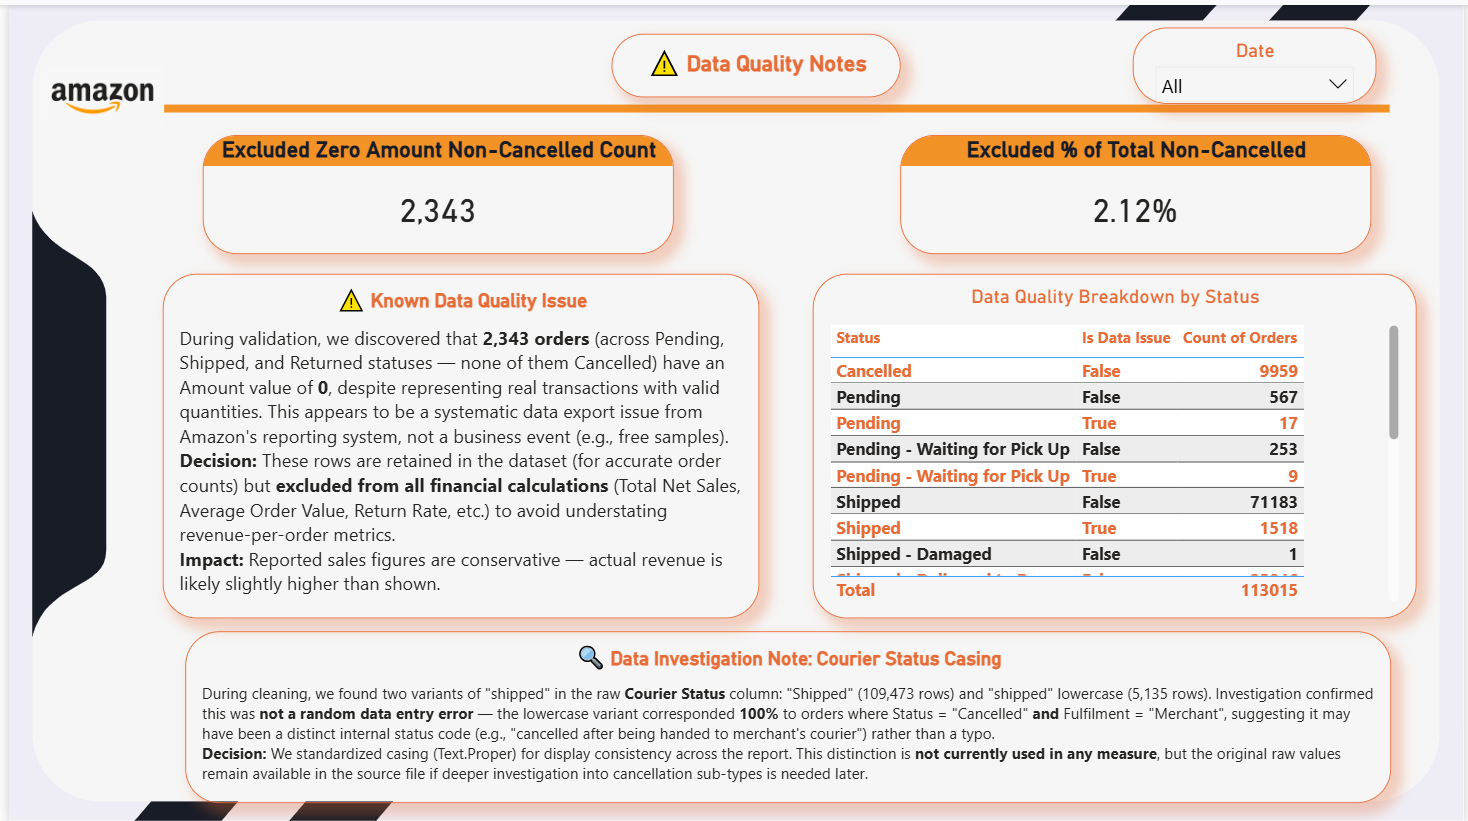

This screenshot's page, from the dashboard's own definition file:
{"tool":"powerbi","page":{"name":"Data Quality Notes","canvas":[1280,720],"ordinal":3},"visuals":[{"type":"image","box":[28.6,46.4,107.1,67.9],"z":0},{"type":"textbox","title":"⚠️ Known Data Quality Issue","box":[135.7,236.9,525,303.6],"z":1000},{"type":"textbox","title":"⚠️ Data Quality Notes","box":[529.8,25,254.8,56],"z":2000},{"type":"card","title":"Excluded Zero Amount Non-Cancelled Count","fields":{"Values":["Sales.Excluded Zero Amount Non-Cancelled Count"]},"box":[170.2,114.3,414.3,104.8],"z":3000},{"type":"card","title":"Excluded % of Total Non-Cancelled","fields":{"Values":["Sales.Excluded % of Total Non-Cancelled"]},"box":[784.5,114.3,414,104.8],"z":4000},{"type":"tableEx","title":"Data Quality Breakdown by Status","fields":{"Values":["Amazon_Sale_Report.Status","Amazon_Sale_Report.Is Data Issue","Amazon_Sale_Report.Order ID"]},"box":[707.1,236.9,531,303.6],"z":5000},{"type":"textbox","title":"🔍 Data Investigation Note: Courier Status Casing","box":[154.8,551.2,1060.7,151.2],"z":6000}]}

Visuals, with their boxes in screenshot pixels (x1, y1, x2, y2), scaled from the page's 1280x720 canvas onto the 1468x821 screenshot:
image: 33:53:156:130
"⚠️ Known Data Quality Issue" textbox: 156:270:758:616
"⚠️ Data Quality Notes" textbox: 608:29:900:92
"Excluded Zero Amount Non-Cancelled Count" card: 195:130:670:250
"Excluded % of Total Non-Cancelled" card: 900:130:1375:250
"Data Quality Breakdown by Status" tableEx: 811:270:1420:616
"🔍 Data Investigation Note: Courier Status Casing" textbox: 178:629:1394:801
